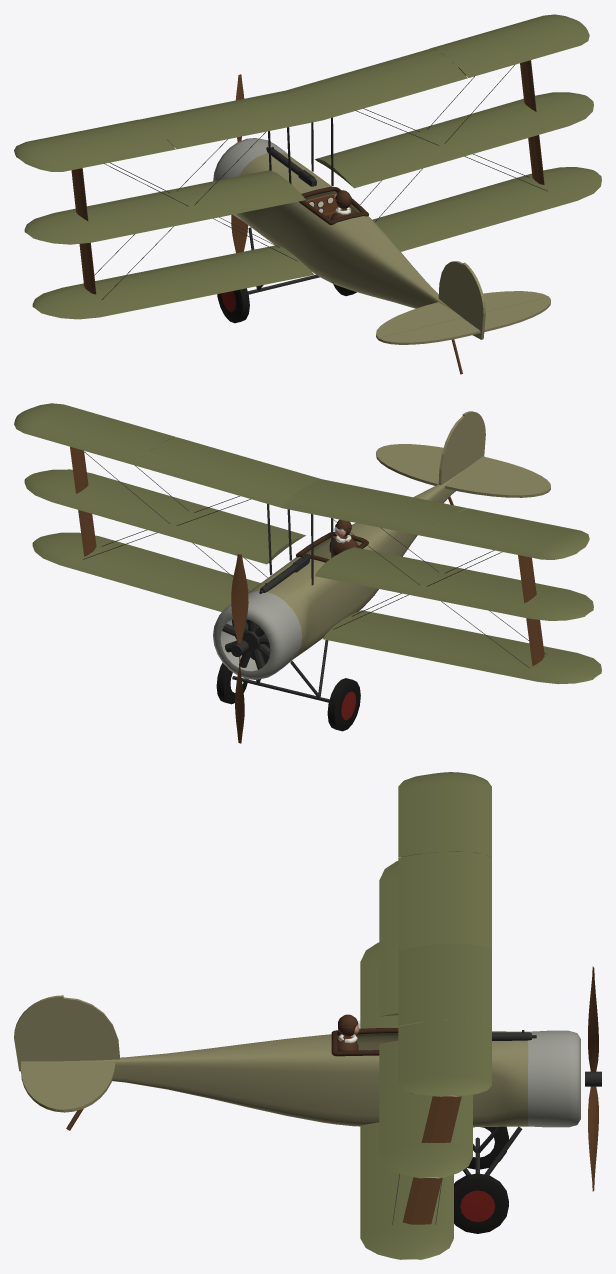
File: sopwith_triplane.glb
3 views of the same model, one above another, from view 1: azimuth 30°, elevation 25°; view 2: azimuth 150°, elevation 25°; view 3: azimuth 270°, elevation 25° (orthographic). The views are drawn at different scales.
Visible parts, largest first — view 1: Fuselage, Wing_Middle_R, Wing_Upper_R, Wing_Middle_L, Wing_Lower_L, Wing_Upper_L, Wing_Lower_R, Struts, Elevator, Aileron_R, Aileron_L, Stabilizer_L (+10 smaller); view 2: Wing_Upper_R, Wing_Middle_R, Wing_Upper_L, Wing_Middle_L, Wing_Lower_L, Wing_Lower_R, Fuselage, Cowling, Struts, Elevator, Wheels, PropBlades (+12 smaller); view 3: Fuselage, Wing_Upper_L, Wing_Upper_R, Wing_Lower_R, Wing_Middle_R, Cowling, Wheels, Wing_Middle_L, Fin, Rudder, Struts, Stabilizer_R (+8 smaller).
Boxes of the visible parts, x1,y1,x2,y2 form: Fuselage: (237, 152, 459, 315); Wing_Middle_R: (315, 92, 593, 188); Wing_Upper_R: (286, 14, 583, 120); Wing_Middle_L: (24, 170, 305, 244); Wing_Lower_L: (32, 245, 313, 319); Wing_Upper_L: (14, 90, 321, 162); Wing_Lower_R: (372, 167, 601, 251); Struts: (71, 60, 544, 294); Elevator: (378, 296, 550, 344); Aileron_R: (458, 25, 589, 77); Aileron_L: (23, 138, 175, 171); Stabilizer_L: (376, 302, 462, 339); Wing_Upper_R: (14, 407, 321, 508); Wing_Middle_R: (24, 469, 305, 564); Wing_Upper_L: (283, 479, 583, 559); Wing_Middle_L: (315, 547, 593, 620); Wing_Lower_L: (323, 610, 601, 684); Wing_Lower_R: (32, 532, 260, 611); Fuselage: (236, 470, 463, 659); Cowling: (213, 591, 302, 679); Struts: (70, 447, 544, 666); Elevator: (379, 444, 550, 491); Wheels: (216, 663, 360, 731); PropBlades: (231, 554, 248, 743); Fuselage: (64, 1031, 528, 1126); Wing_Upper_L: (398, 772, 491, 949); Wing_Upper_R: (398, 943, 491, 1096); Wing_Lower_R: (360, 1122, 453, 1259); Wing_Middle_R: (379, 1041, 472, 1178); Cowling: (528, 1030, 580, 1127); Wheels: (454, 1126, 508, 1233); Wing_Middle_L: (379, 861, 398, 1016); Fin: (63, 997, 119, 1060); Rudder: (14, 995, 63, 1071); Struts: (403, 1096, 461, 1224); Stabilizer_R: (63, 1061, 115, 1112).
Size of the model in its own units: 8.08 by 3.15 by 6.21.
